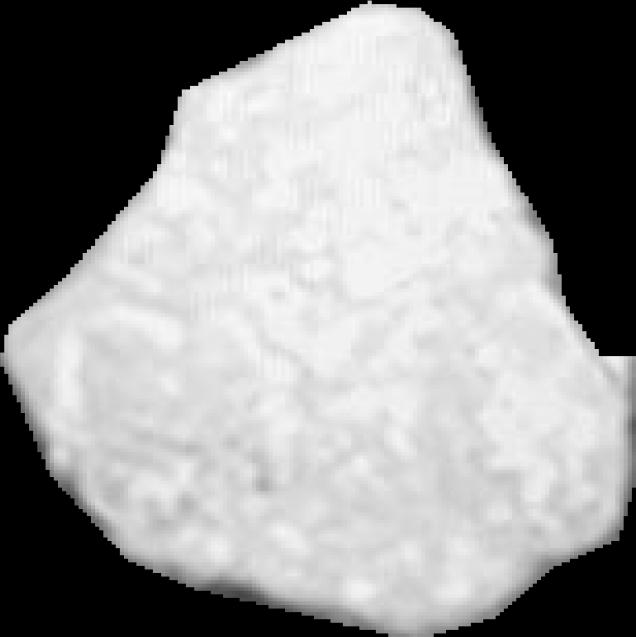tumor_moderate_chance: (0, 1, 636, 637)
